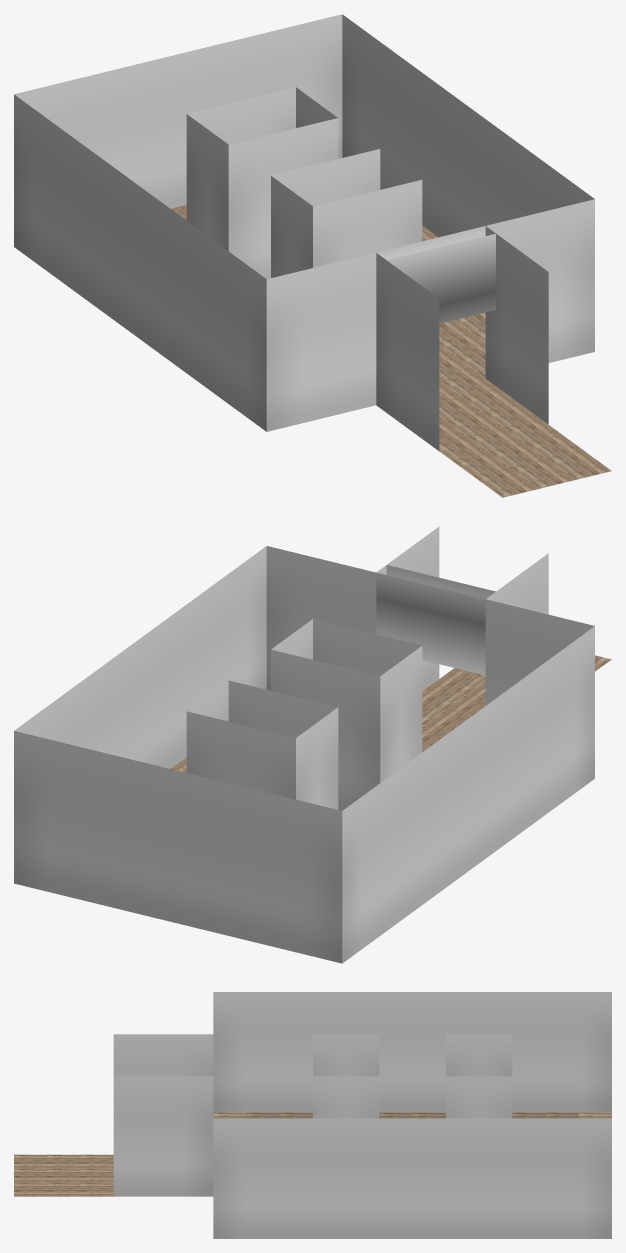
The model's file is SM_World.dae.
3 views of the same model, one above another, from view 1: azimuth 30°, elevation 25°; view 2: azimuth 150°, elevation 25°; view 3: azimuth 270°, elevation 25° (orthographic). The views are drawn at different scales.
Visible parts, largest first — view 1: Wall, Floor; view 2: Wall, Floor; view 3: Wall, Floor.
Boxes of the visible parts, left/top/right/bottom form: Wall: left=14, top=14, right=594, bottom=450; Floor: left=170, top=205, right=611, bottom=497; Wall: left=14, top=526, right=594, bottom=963; Floor: left=171, top=655, right=611, bottom=772; Wall: left=113, top=992, right=611, bottom=1238; Floor: left=14, top=1112, right=611, bottom=1196.
Size of the model in its own units: 18 by 36 by 8.
2 materials, 2 textured.
